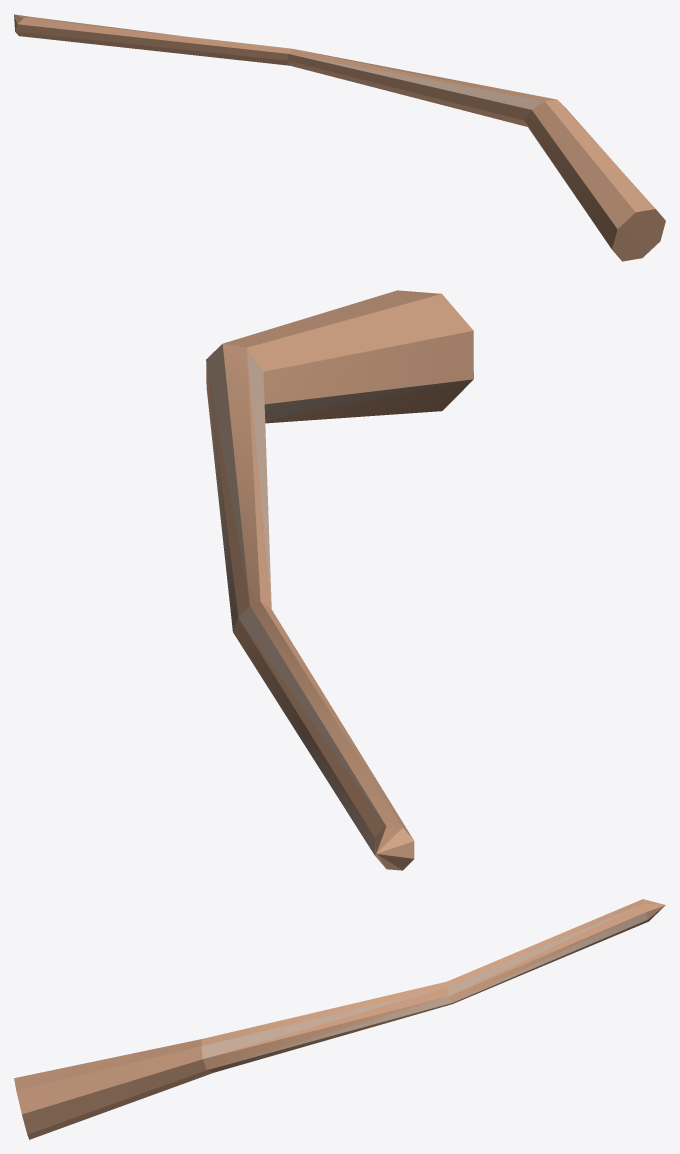
Rendered from branchBigB.fbx.
3 renders of one model, top to bottom at view 1: azimuth 30°, elevation 25°; view 2: azimuth 150°, elevation 25°; view 3: azimuth 270°, elevation 25°, orthographic. The views are drawn at different scales.
Visible parts, largest first — view 1: polySurface2; view 2: polySurface2; view 3: polySurface2.
Boxes of the visible parts, x1,y1,x2,y2 form: polySurface2: [14, 14, 665, 261]; polySurface2: [206, 290, 473, 870]; polySurface2: [14, 899, 665, 1139].
Bounding box in the file's own units: 119 × 32.39 × 200.
Materials: 2 (2 with a texture image).
